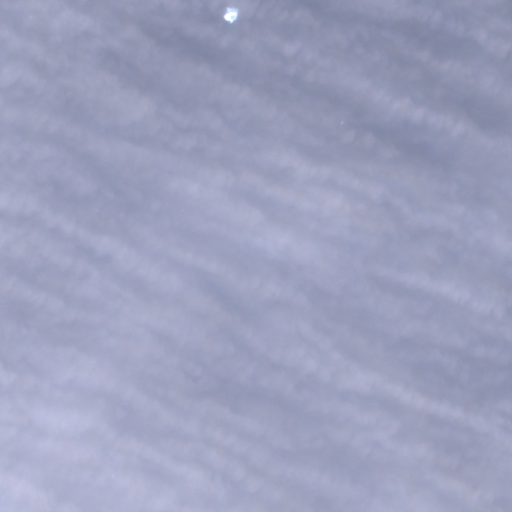Iceberg: (224, 7, 237, 23)
